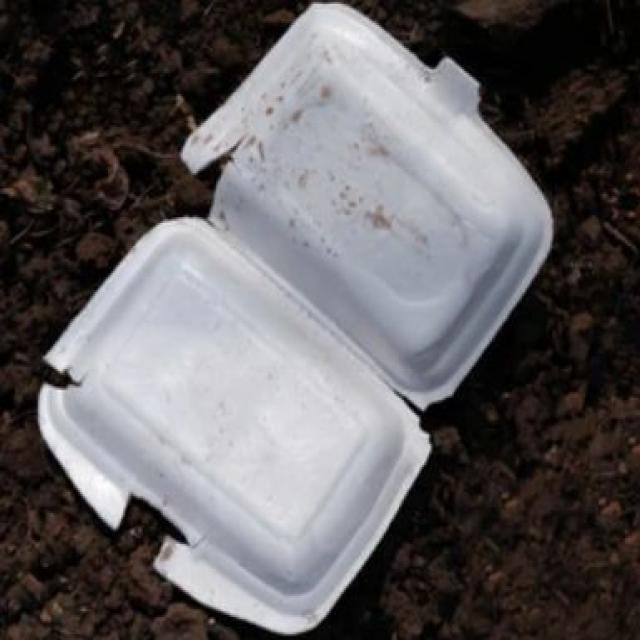electronic: (33, 0, 555, 636)
